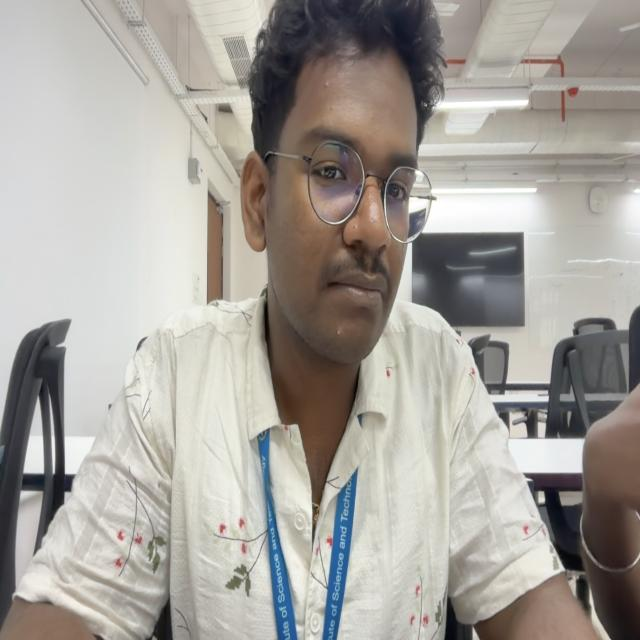sai: (240, 0, 434, 362)
